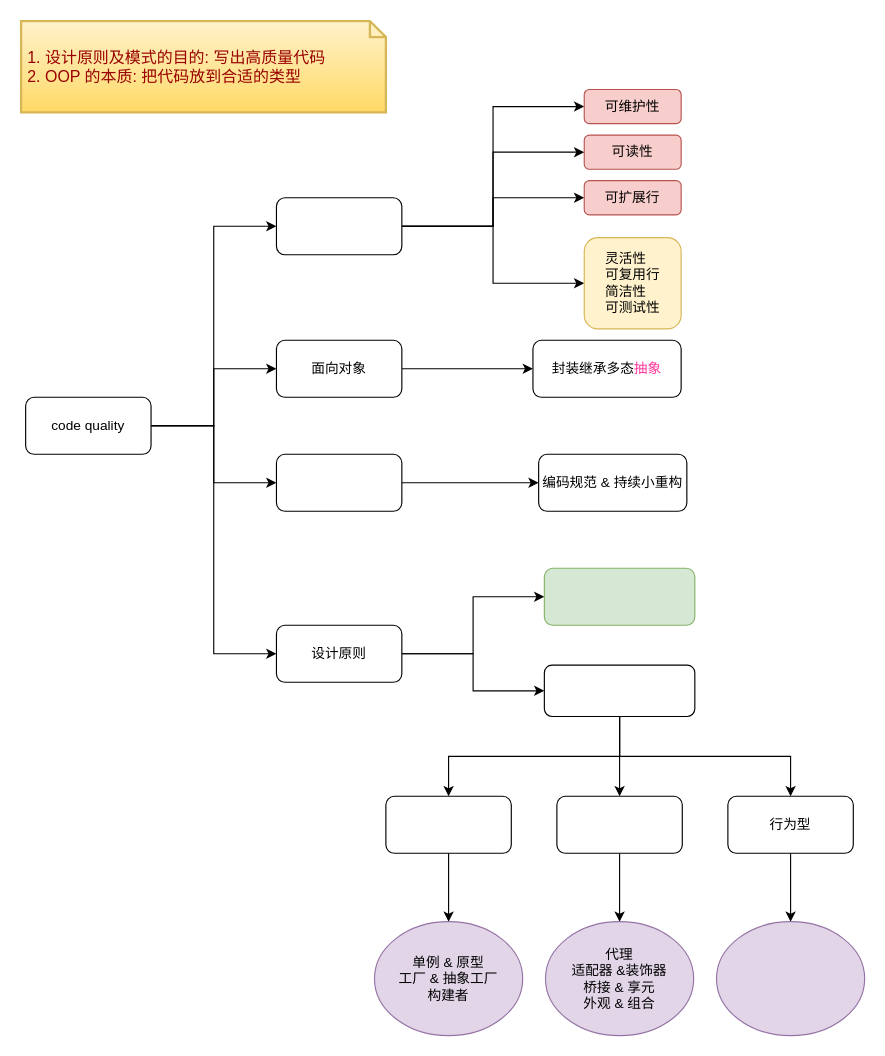
Image size: 885x1056. Some labels were removed from this diagram. Here are the shapes that lost their labels. From the top down, the box of each, then its label:
(275, 197, 402, 255): 高质量代码
(275, 453, 402, 511): 代码重构
(543, 567, 695, 625): solid + lod + dry + kiss yagni +合成复用
(543, 664, 695, 716): 设计模式: 23
(385, 795, 511, 853): 创建型
(556, 795, 682, 853): 结构型
(715, 921, 865, 1036): 观模中策 访状解命 责迭备
